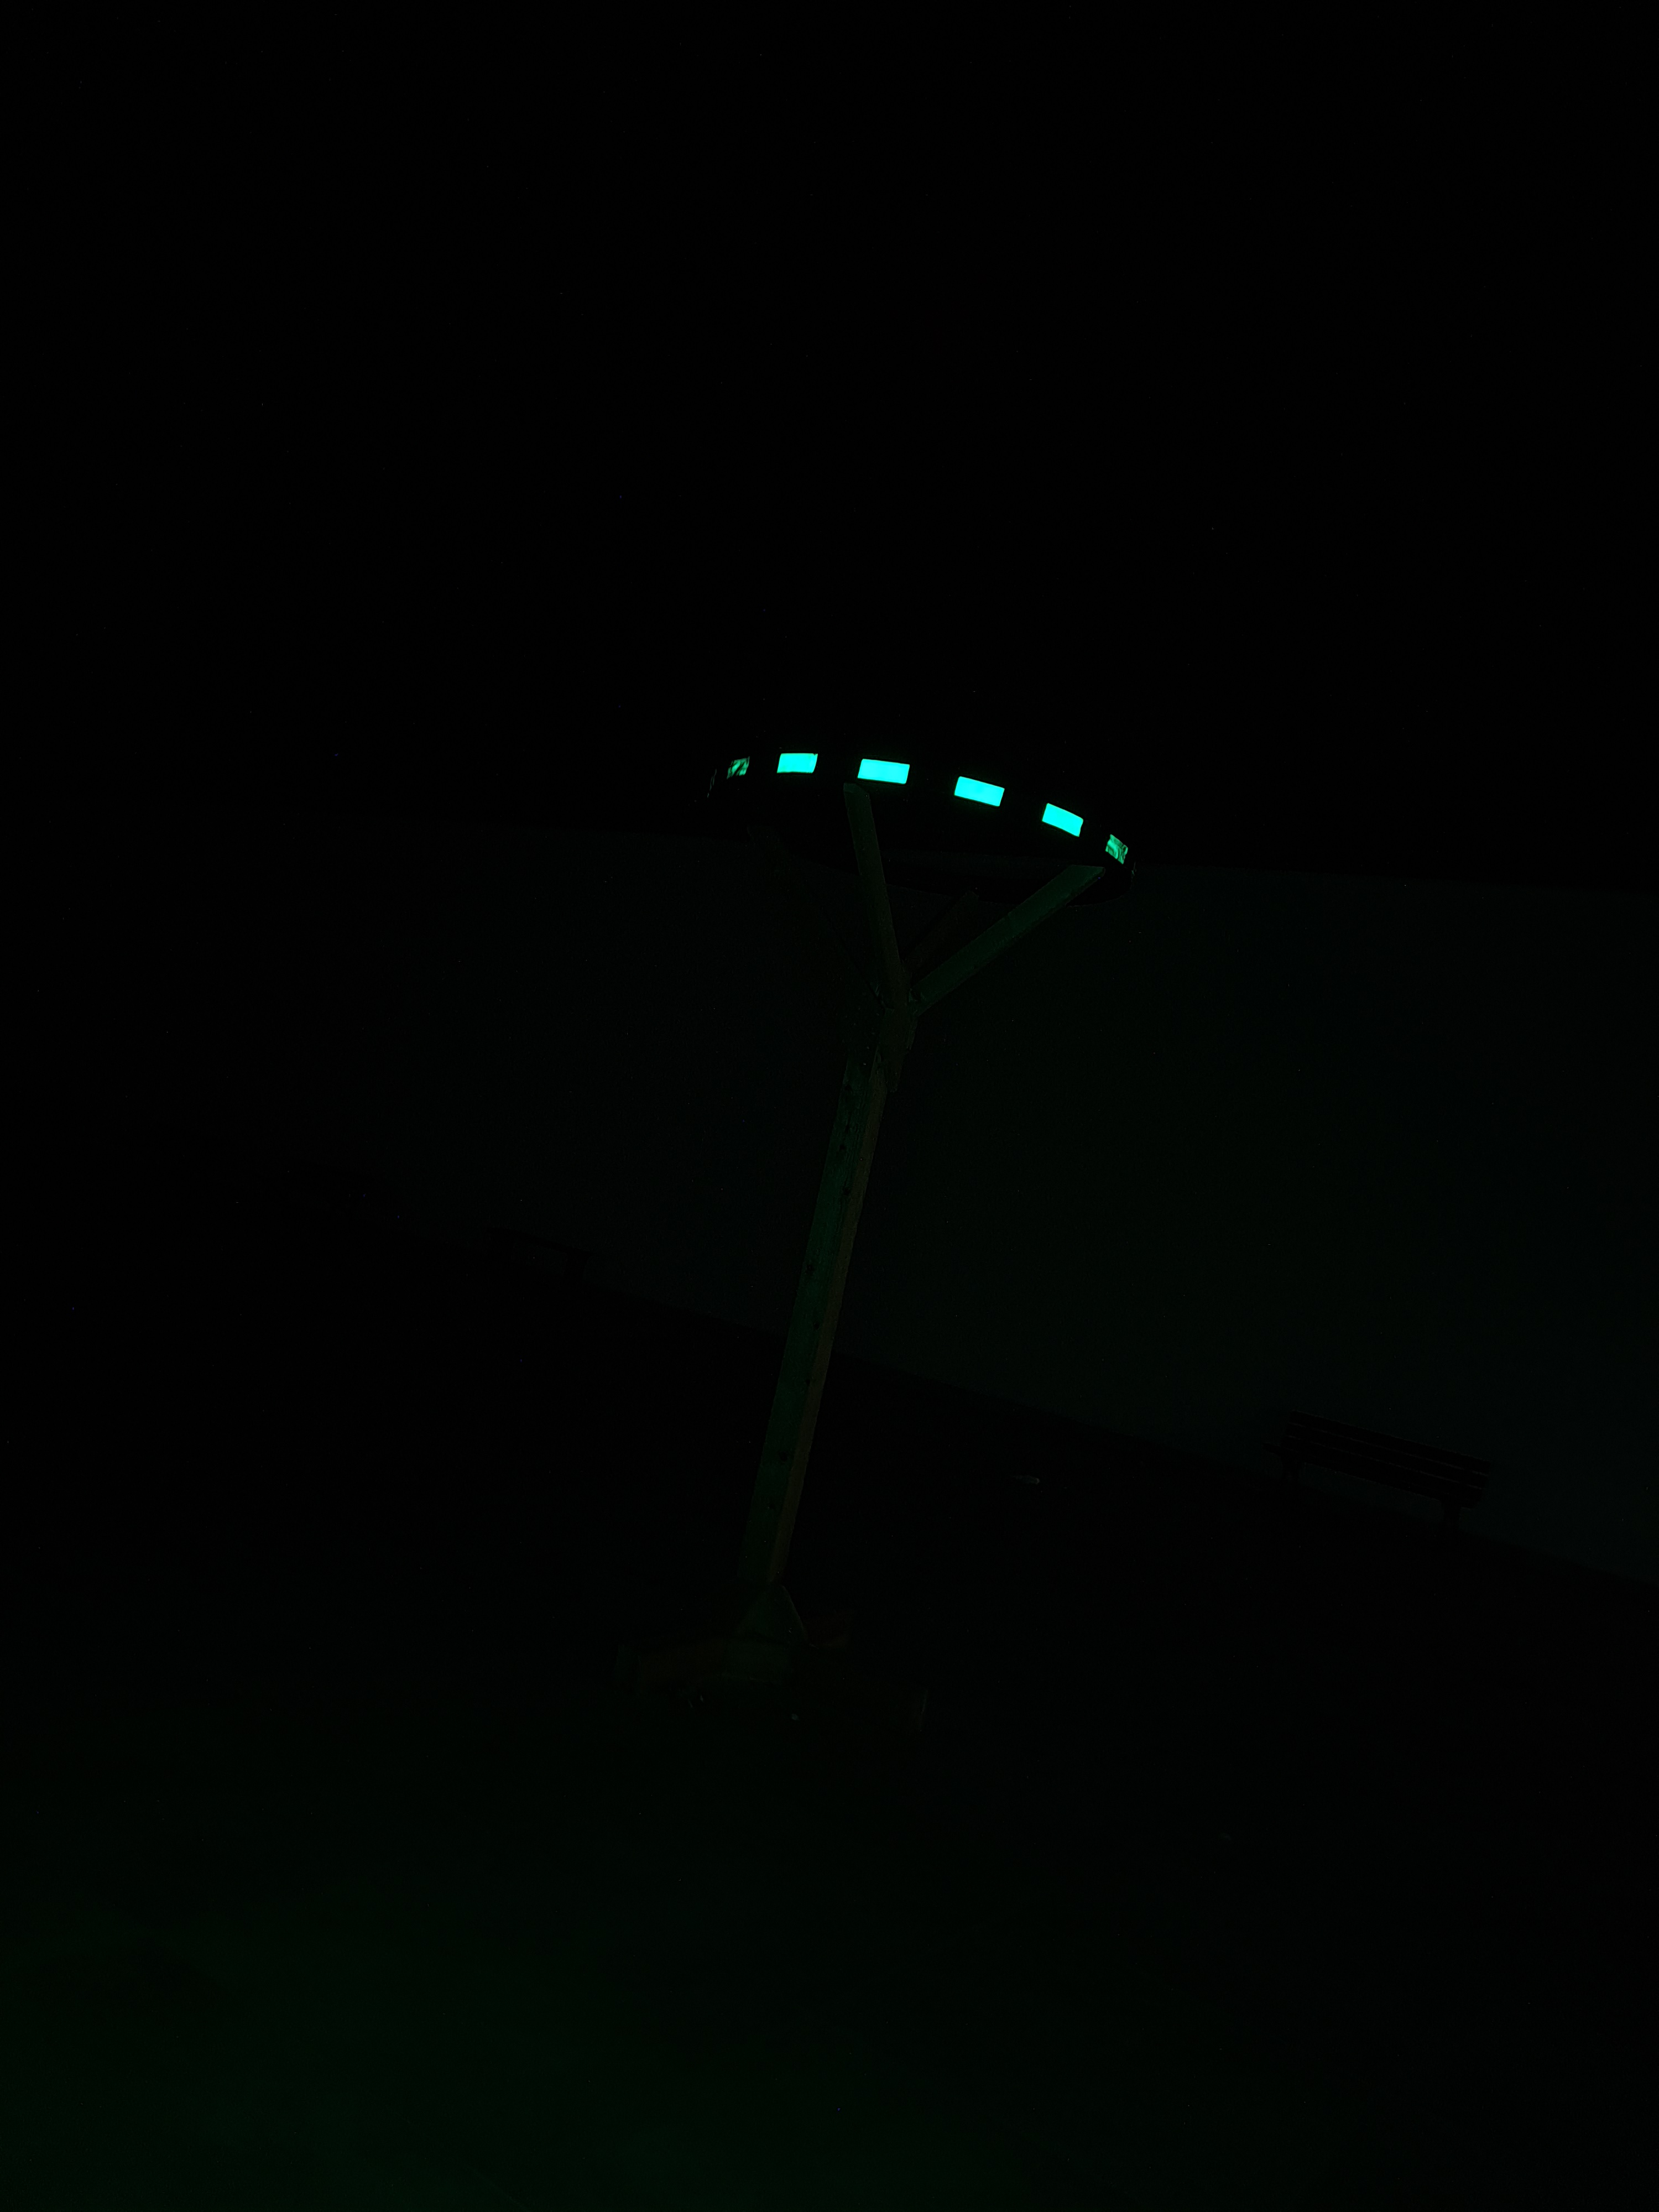hoop: (727, 751, 1131, 869)
